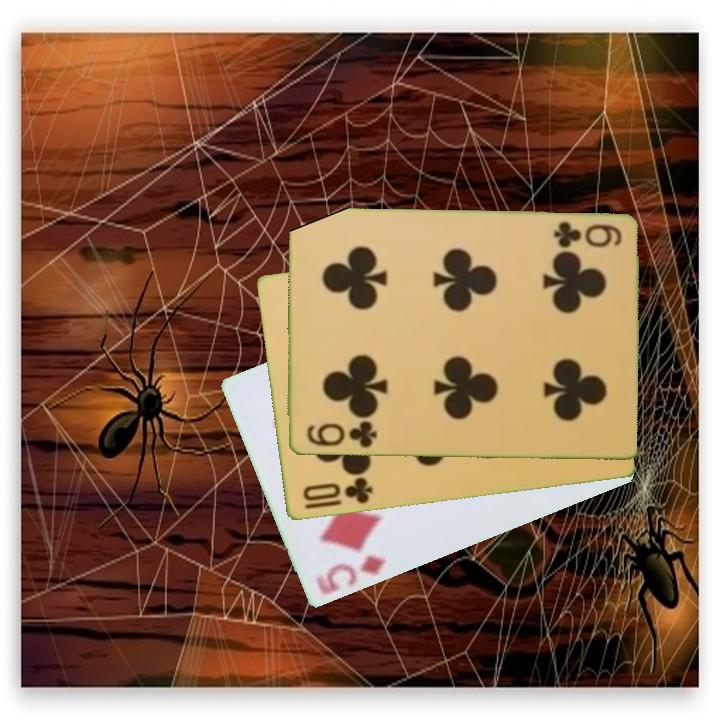10c: (298, 474, 375, 507)
5d: (311, 552, 389, 598)
6c: (302, 418, 379, 451), (550, 218, 624, 251)
